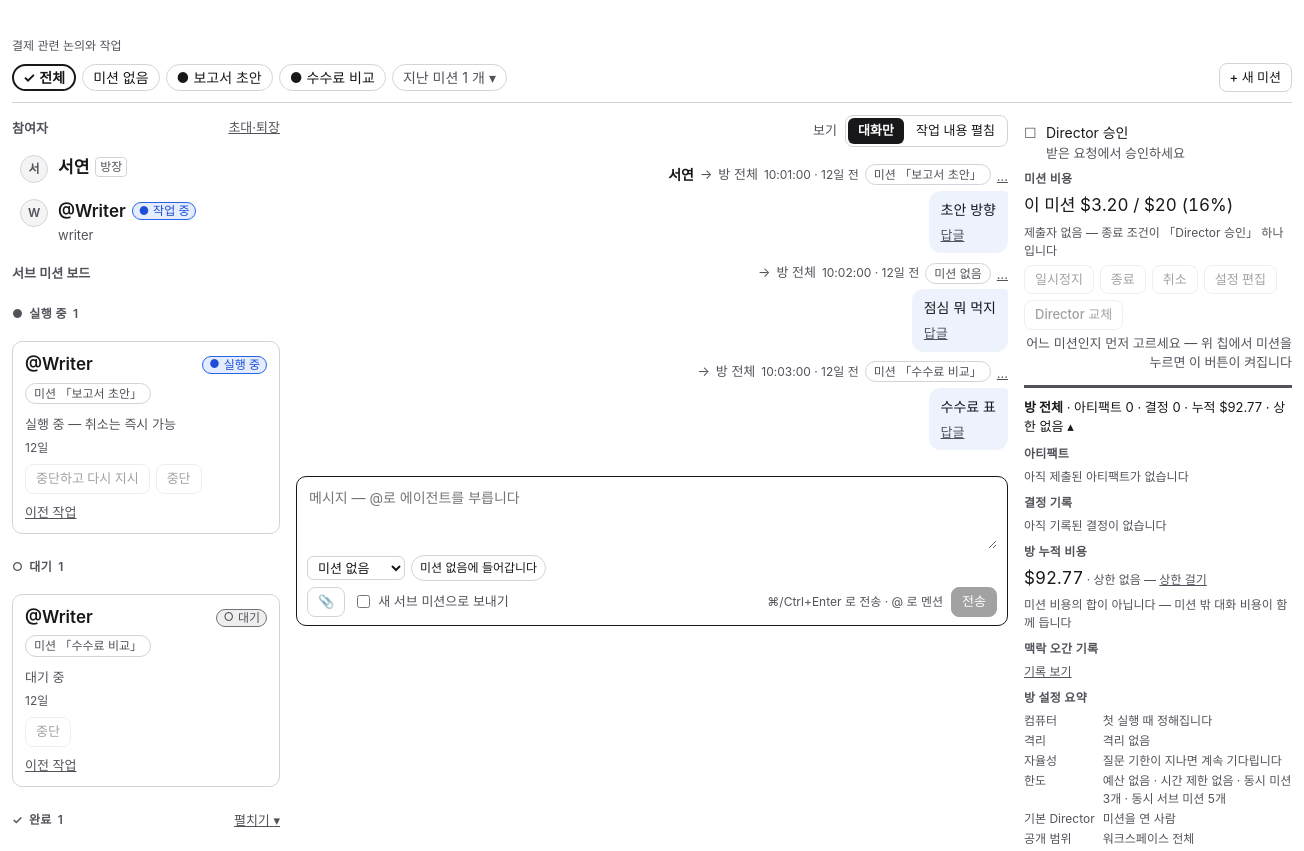
Scenario: T-BUDGETCAP — 비용 줄의 상한(없으면 「상한 없음 — [상한 걸기]」, 있으면 「$x / $y (n%)」) › 방 상한 없음 — 접힌 머리줄에도 「상한 없음」, 펼치면 「$92.77 · 상한 없음 — 상한 걸기」 → 그 자리 입력 → updateRoom
The image size is (1304, 851).
(page scrolled)
Expected: the 1st element with test id "message-card" is shown, [668,164,1008,253]
Expected: the button with test id "room-panel-toggle" shows "누적 $92.77 · 상한 없음", [1024,396,1292,439]
Click the button with test id "room-cost-line-set" at (1183, 580), box [1159,571,1207,589]
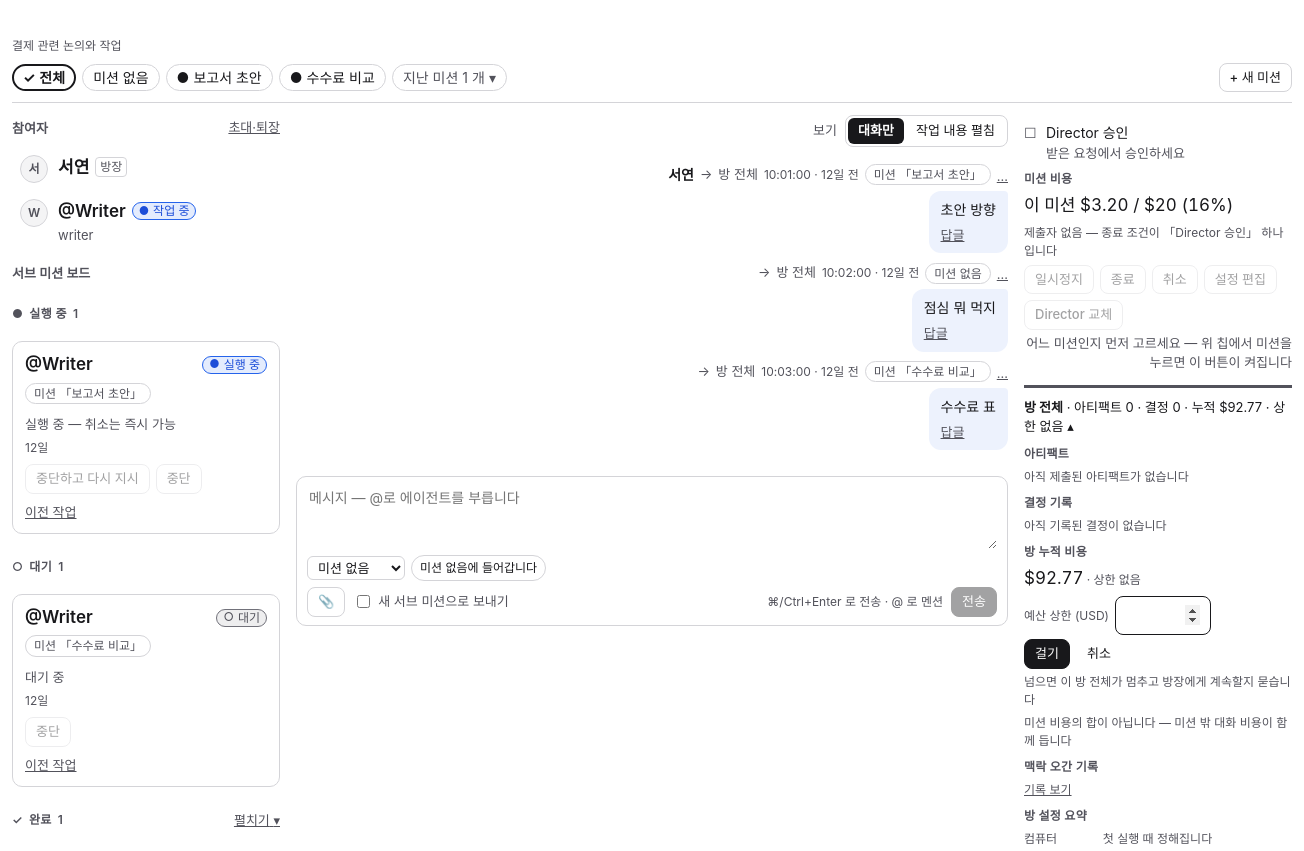
Type "50" into the number field with test id "room-cost-line-input" at (1163, 616), box [1115,596,1211,635]
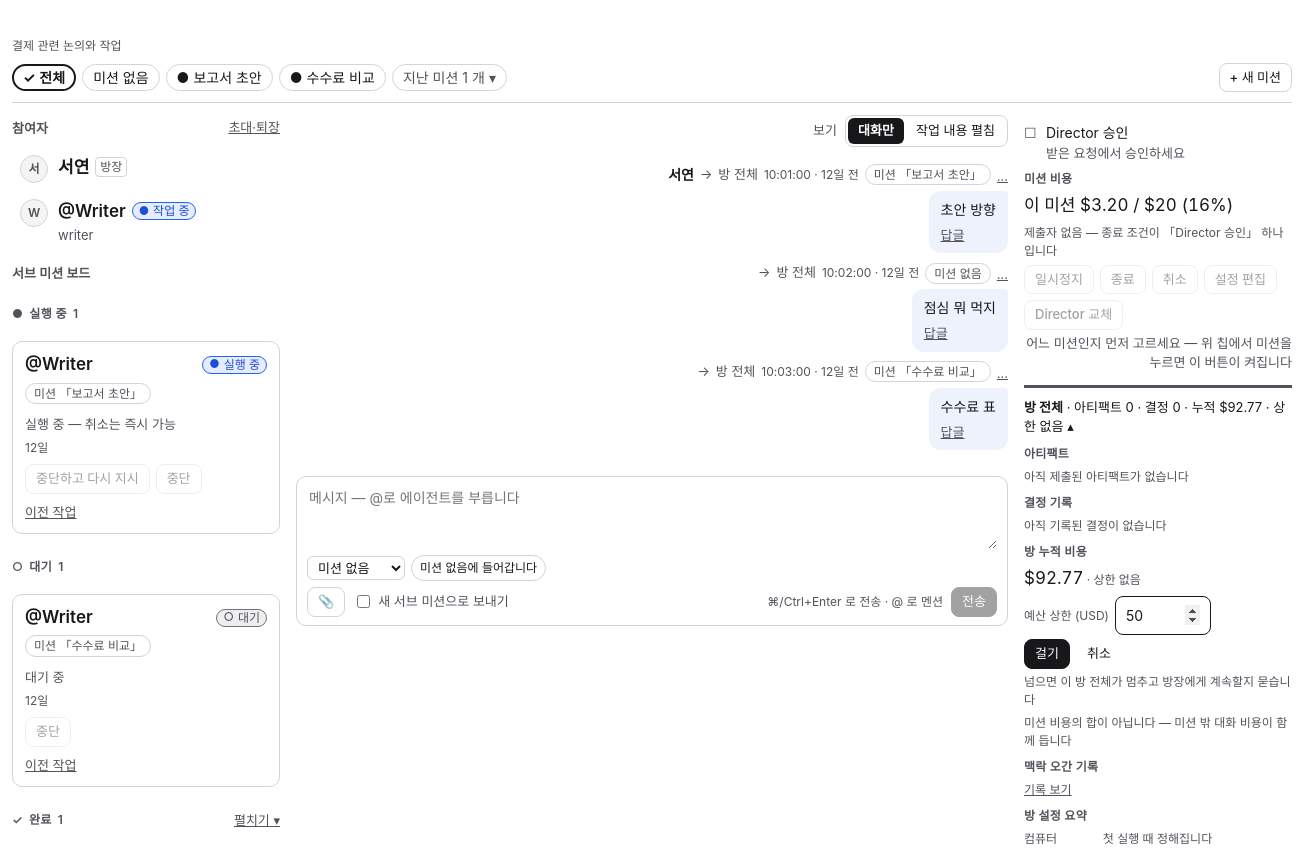
Click the button with test id "room-cost-line-save" at (1047, 654), box [1024,639,1070,669]
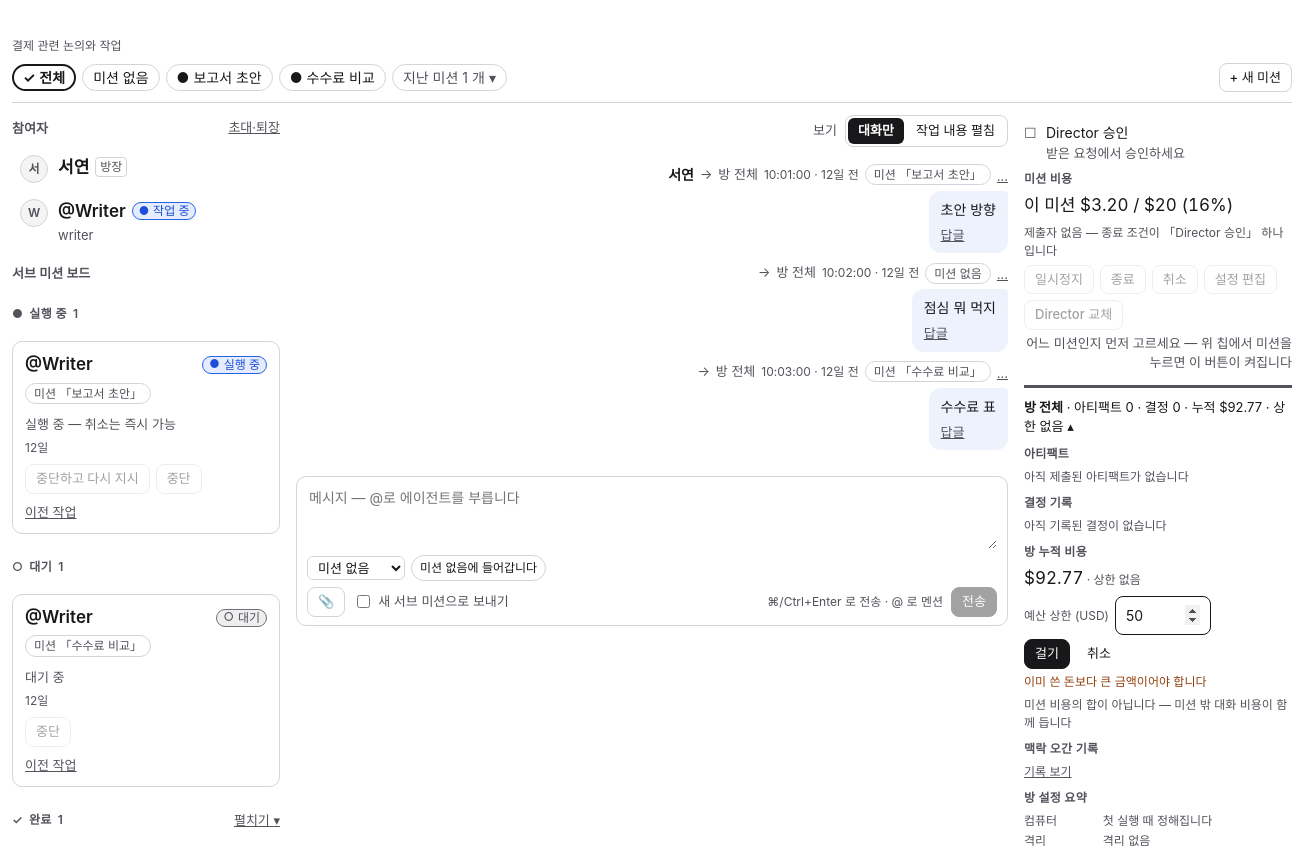
Now the message with test id "room-cost-line-err" reads "이미 쓴 돈보다 큰 금액이어야 합니다", box [1024,674,1206,689]
Replace the text in the number field with test id "room-cost-line-input" with "150" at (1163, 616), box [1115,596,1211,635]
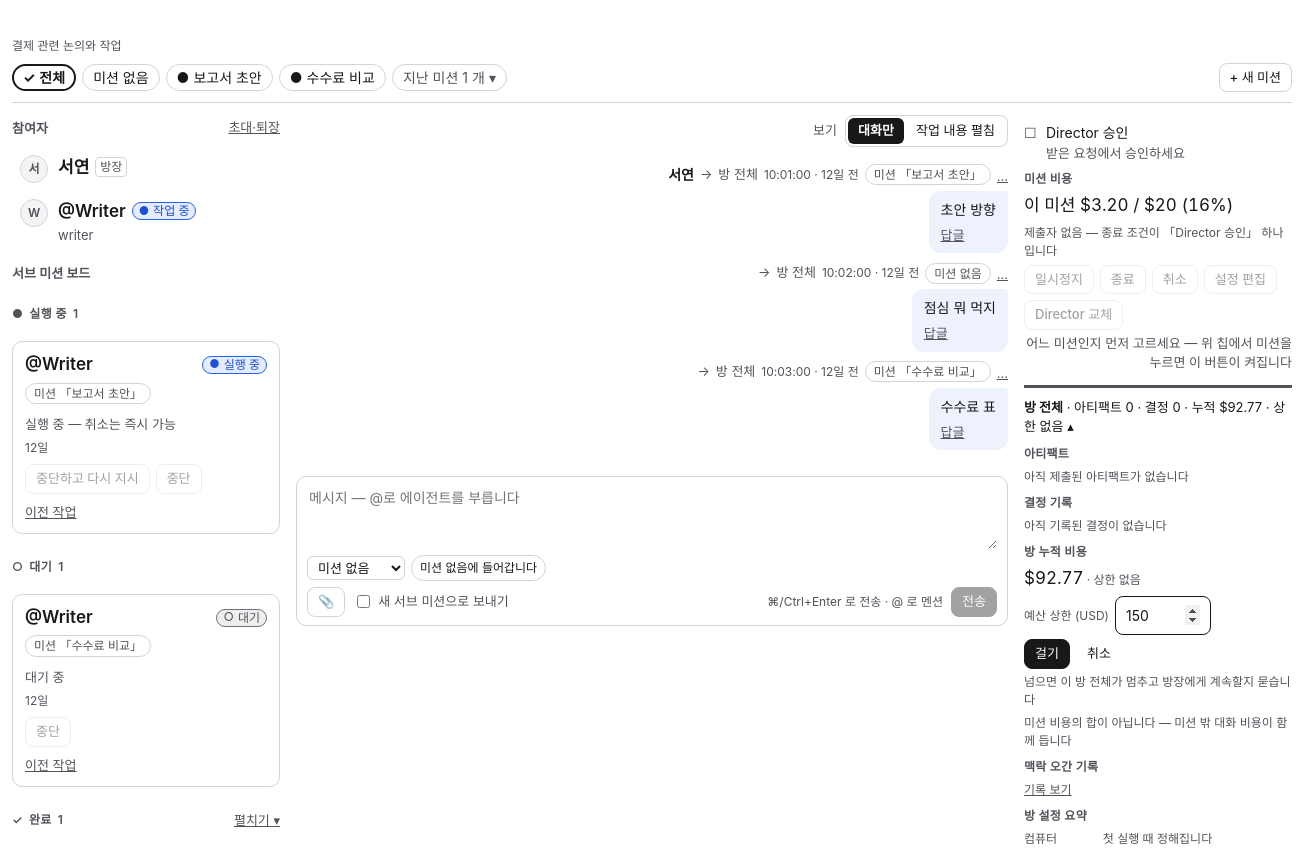
Click the button with test id "room-cost-line-save" at (1047, 654), box [1024,639,1070,669]
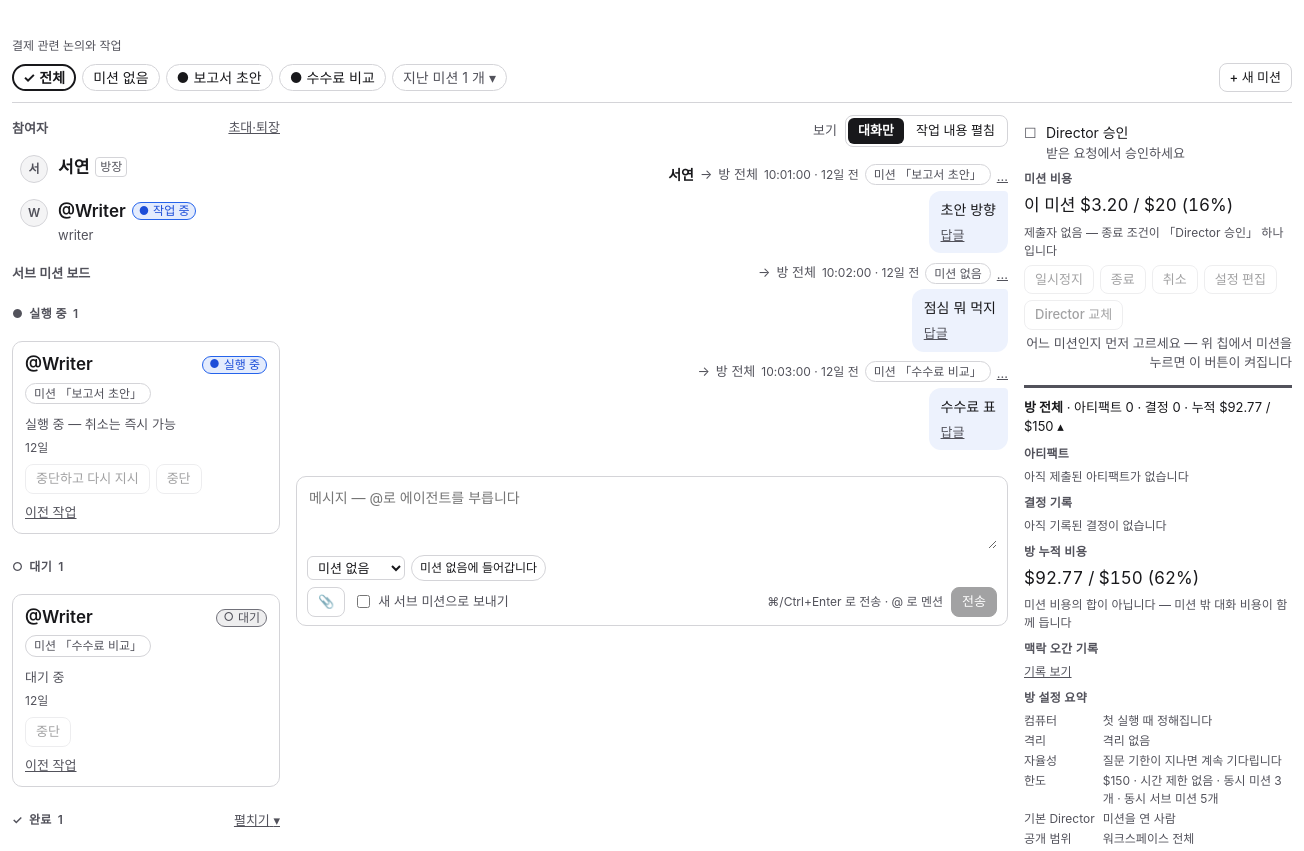
Now the text with test id "room-cost-line" reads "$92.77 / $150 (62%)", box [1024,568,1199,588]
Now the form with test id "room-cost-line-form" is gone
